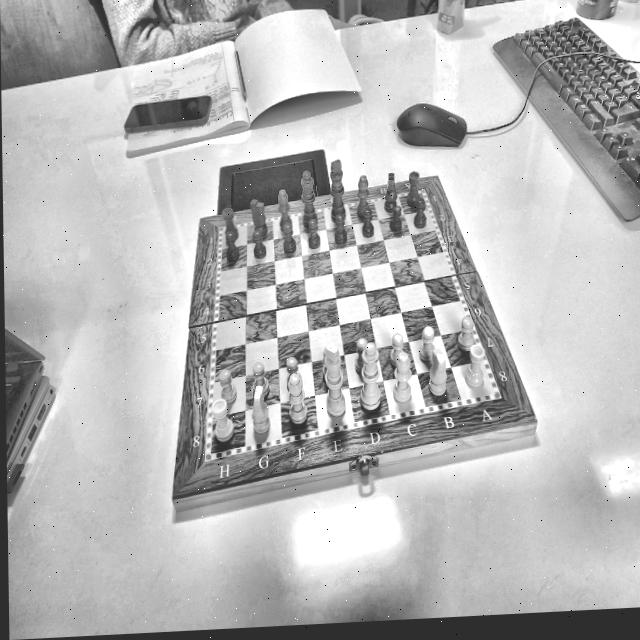black-bishop: (277, 187, 294, 234), (357, 174, 372, 219)
black-king: (330, 159, 347, 224)
black-knight: (249, 197, 270, 238), (384, 172, 398, 213)
black-pawn: (281, 222, 300, 256), (251, 229, 269, 260), (225, 231, 241, 263), (306, 219, 322, 250), (388, 206, 405, 234), (361, 207, 375, 239), (414, 198, 427, 229), (335, 212, 347, 244)
black-queen: (301, 169, 320, 228)
black-rook: (221, 206, 242, 240), (407, 171, 421, 208)
white-bishop: (288, 372, 308, 426), (393, 351, 414, 402)
white-king: (323, 343, 348, 418)
white-knight: (248, 385, 272, 434), (429, 350, 450, 399)
white-pawn: (250, 360, 272, 397), (218, 369, 239, 404), (419, 324, 437, 363), (458, 315, 475, 352), (388, 334, 405, 368), (354, 339, 370, 374), (285, 358, 301, 391)
white-queen: (361, 341, 382, 412)
white-rook: (210, 397, 238, 444), (464, 345, 487, 391)
